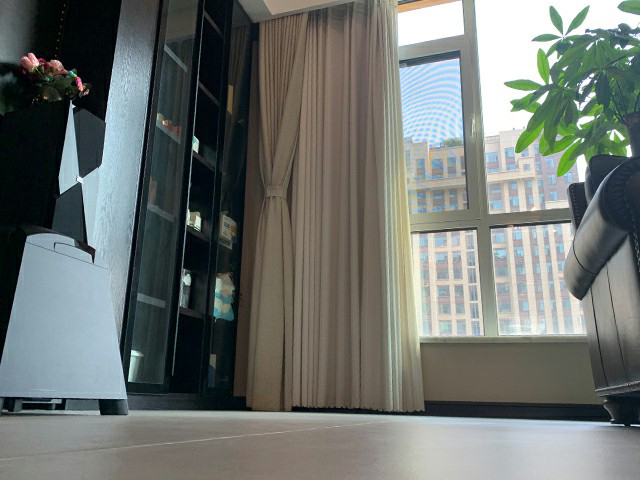cabinet: (98, 1, 253, 410)
curtain: (301, 1, 424, 413), (232, 5, 313, 411)
sofa: (563, 154, 640, 429)
